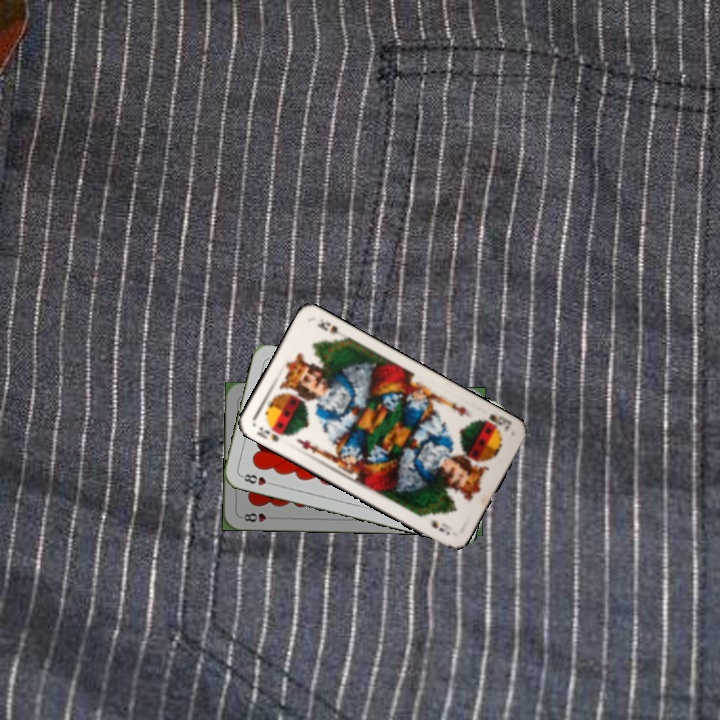H8: (237, 470, 277, 488), (237, 509, 278, 524)
SK: (474, 410, 514, 435), (253, 422, 282, 445)
